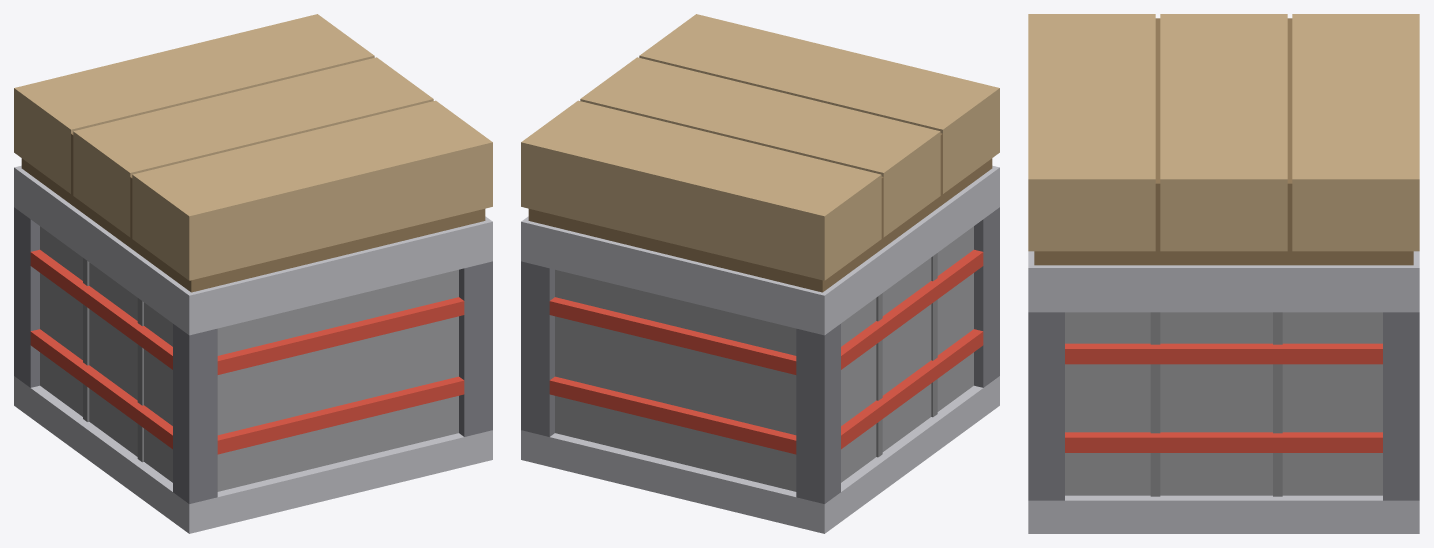
The model's file is piston_2_held.gltf.
3 views of the same model, side by side, from view 1: azimuth 30°, elevation 25°; view 2: azimuth 150°, elevation 25°; view 3: azimuth 270°, elevation 25° (orthographic). The views are drawn at different scales.
Parts seen in each view (by area): view 1: cinnabar_piston_2_held; view 2: cinnabar_piston_2_held; view 3: cinnabar_piston_2_held.
Part boxes in pixels (x1,y1,x2,y2): cinnabar_piston_2_held: (14, 14, 492, 533); cinnabar_piston_2_held: (521, 14, 999, 533); cinnabar_piston_2_held: (1028, 14, 1419, 533).
Size of the model in its own units: 0.16 by 0.16 by 0.16.
